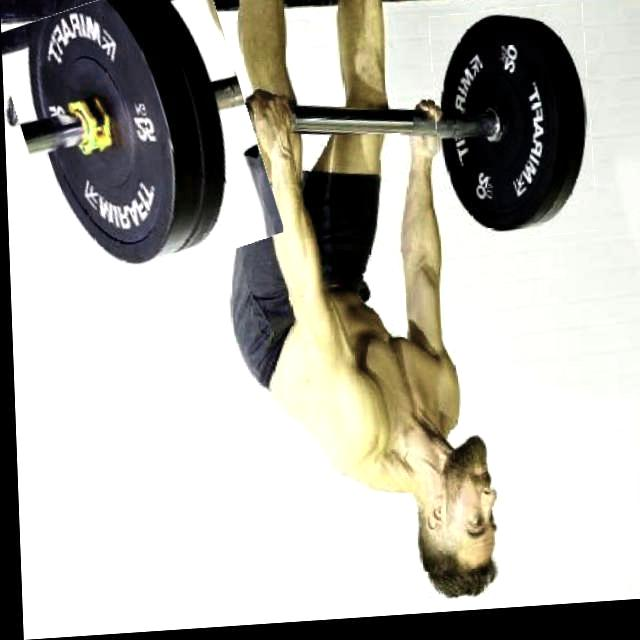barbell: (6, 1, 267, 296), (432, 12, 595, 252)
